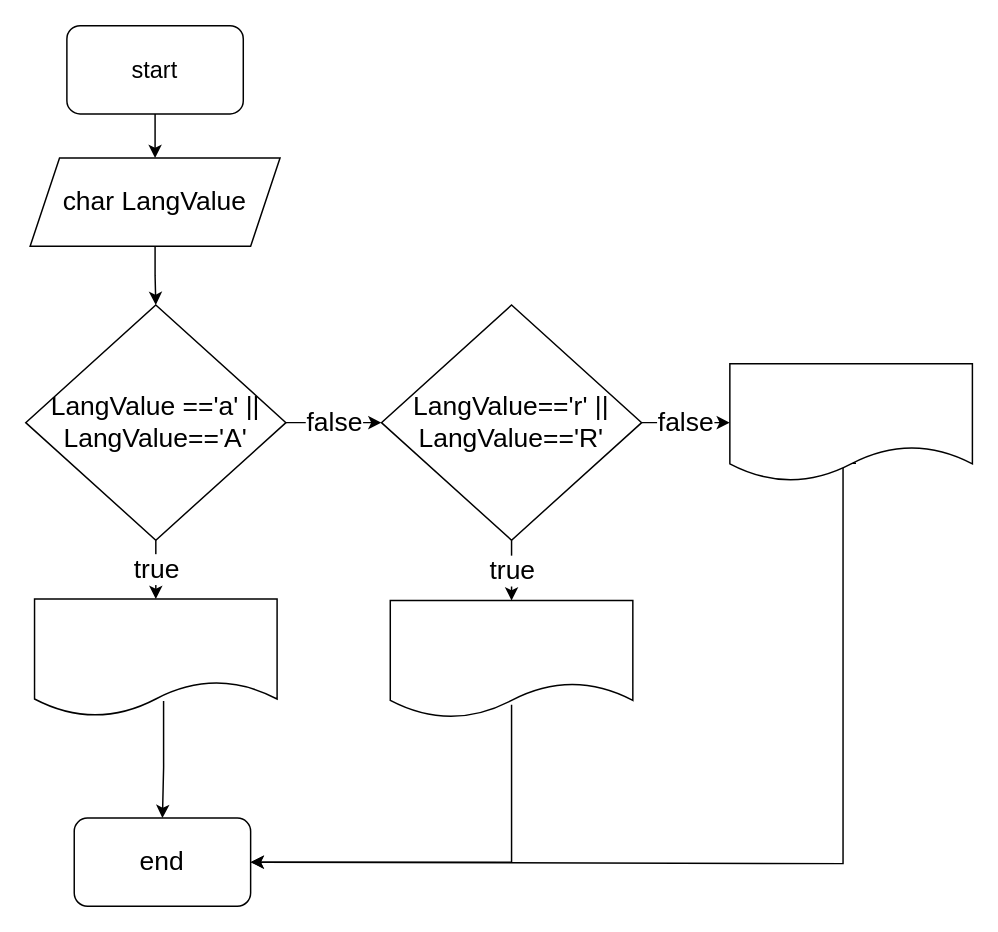
Some shapes in this 998 by 932 pixel diagram are drawn without their labels. Here are the shapes that lost their labels. From the top down, the box of each, then its label:
(728, 362, 972, 481): Wrong input
(33, 598, 277, 717): Azerbaijani language chosen
(389, 599, 633, 718): Russian language chosen
